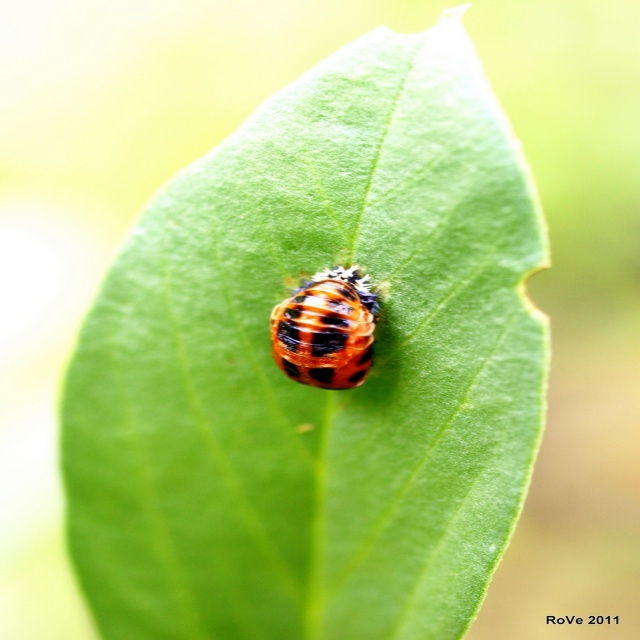Ladybug: (274, 264, 386, 392)
